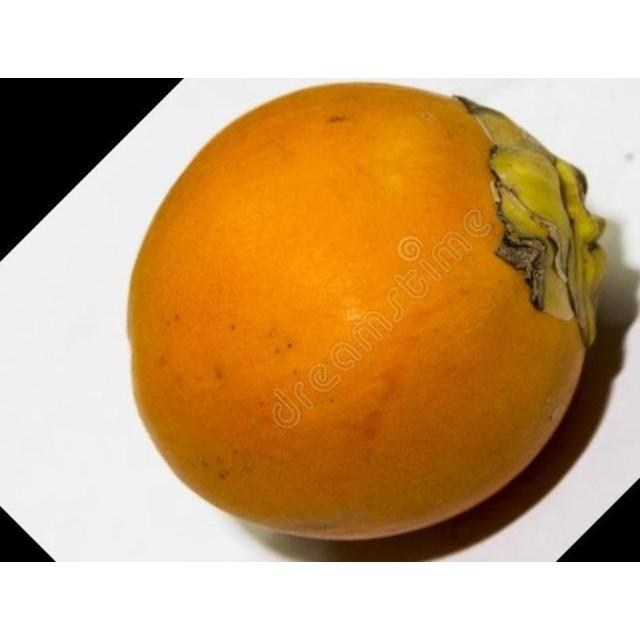good: (124, 83, 610, 545)
